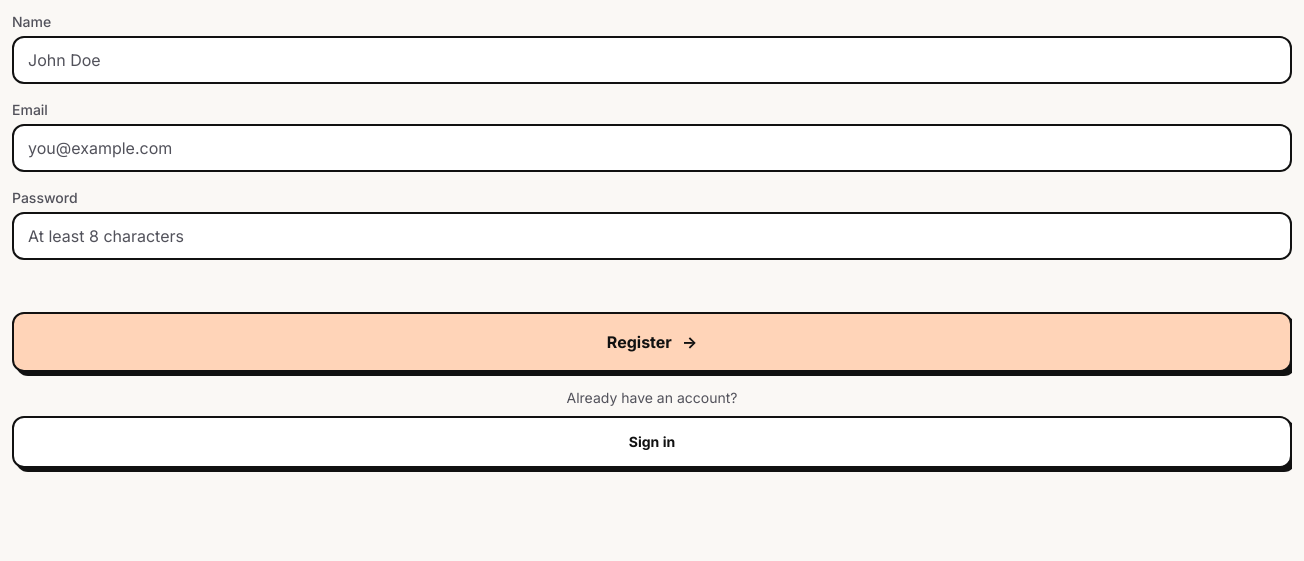
it: RegisterForm › should associate inline errors with their inputs for assistive technology
Click the button "Register →": (652, 342) left=12, top=312, right=1292, bottom=372
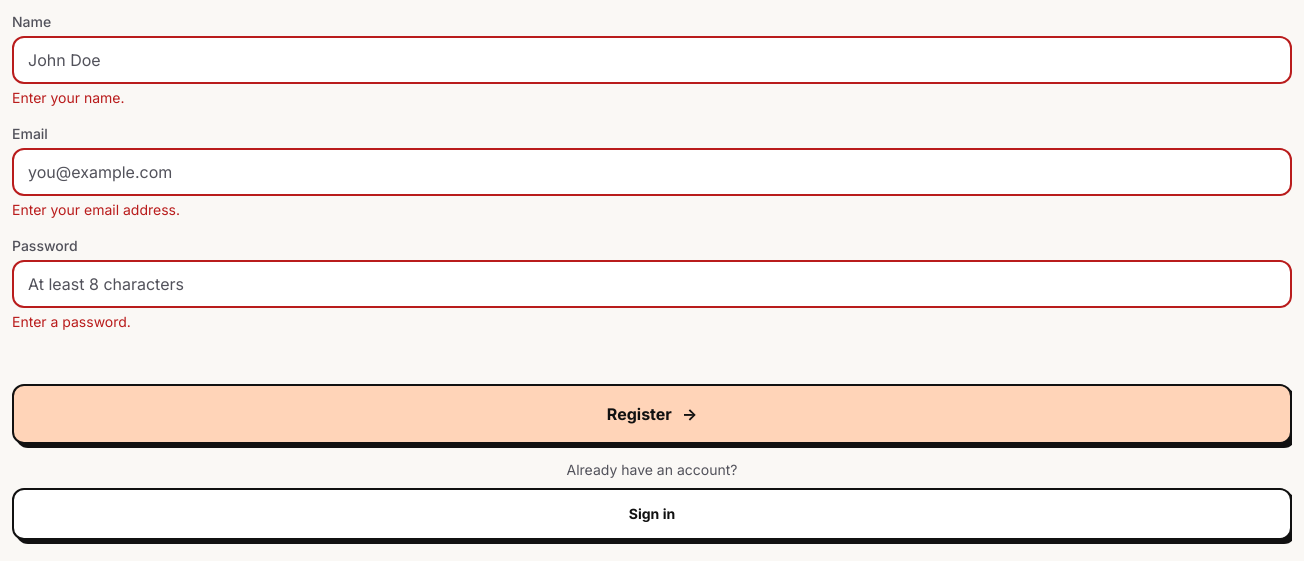
Expected: the message with id "register-email-error" reads "Enter your email address.", left=12, top=201, right=180, bottom=218
